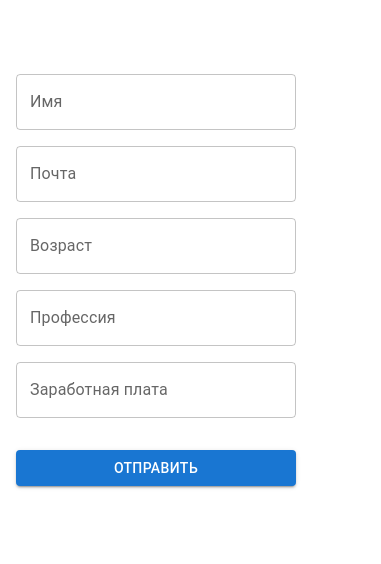
Scenario: RecordForm › shows validation errors for empty required fields
Click the button "Отправить": (156, 468) [16,450,296,486]
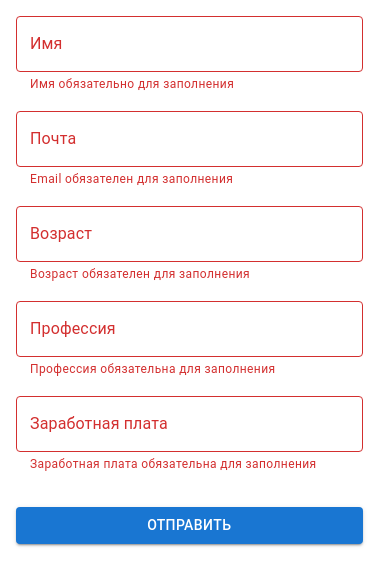
Result: the text "Имя обязательно для заполнения" is shown at [30,78,234,92]
Result: the text "Email обязателен для заполнения" is shown at [30,172,233,186]
Result: the text "Возраст обязателен для заполнения" is shown at [30,267,250,281]
